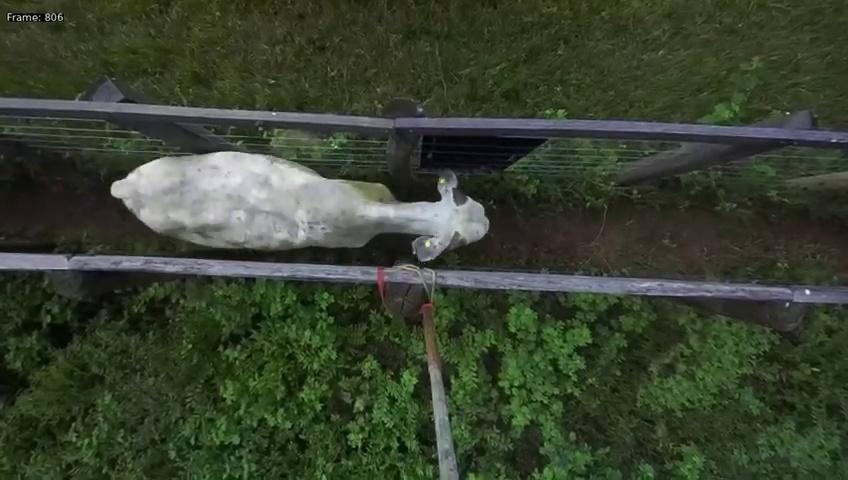cattle: (107, 130, 490, 264)
